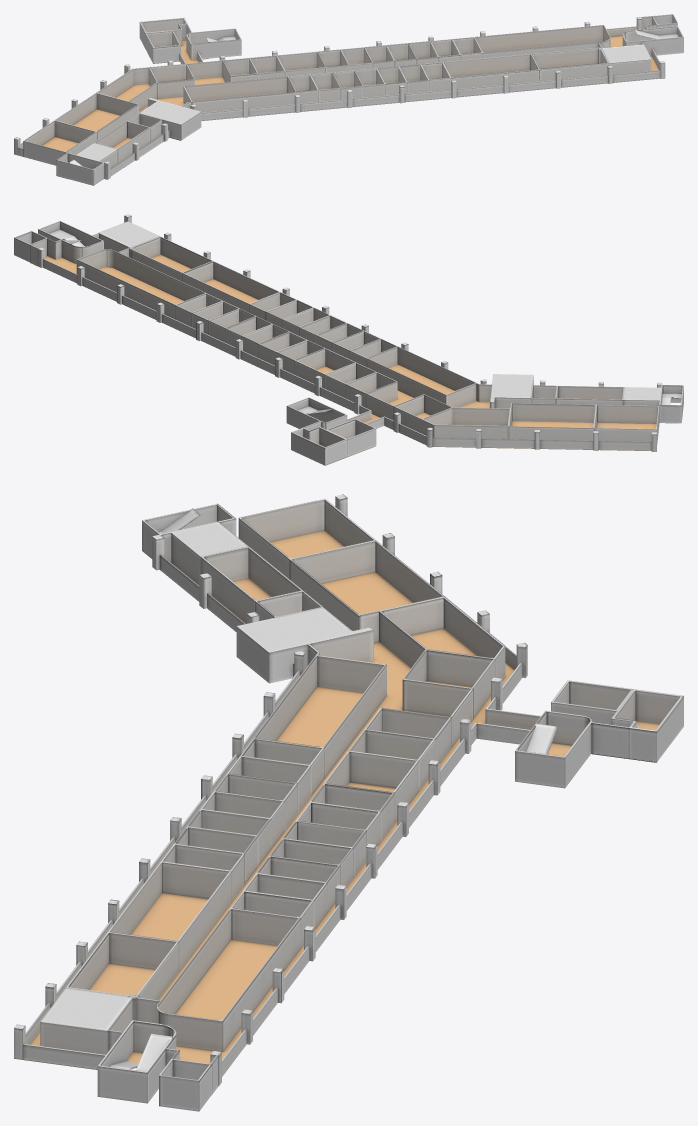
3 renders of one model, top to bottom at view 1: azimuth 30°, elevation 25°; view 2: azimuth 150°, elevation 25°; view 3: azimuth 270°, elevation 25°, orthographic. The views are drawn at different scales.
Visible parts, largest first — view 1: Rooms.1, Extra_wall.1, Misc.1, Permanent_columns.1, Cap_2, Floor; view 2: Rooms.1, Extra_wall.1, Misc.1, Cap_2, Permanent_columns.1, Floor; view 3: Rooms.1, Extra_wall.1, Cap_2, Misc.1, Permanent_columns.1.
Boxes of the visible parts, box(x1,y1,x2,y2) form: Rooms.1: box(23, 17, 610, 165); Extra_wall.1: box(18, 16, 683, 185); Misc.1: box(69, 14, 678, 169); Permanent_columns.1: box(14, 17, 665, 179); Cap_2: box(42, 35, 658, 151); Floor: box(18, 58, 659, 179); Rooms.1: box(76, 236, 659, 465); Extra_wall.1: box(30, 221, 683, 450); Misc.1: box(14, 221, 681, 414); Cap_2: box(45, 254, 656, 428); Permanent_columns.1: box(38, 214, 662, 451); Floor: box(30, 262, 677, 465); Rooms.1: box(66, 498, 683, 1051); Extra_wall.1: box(23, 503, 629, 1103); Cap_2: box(30, 530, 659, 1063); Misc.1: box(40, 508, 557, 1111); Permanent_columns.1: box(14, 494, 527, 1086).
Size of the model in its own units: 137 by 3.55 by 65.94.
Materials: 1 (1 with a texture image).
